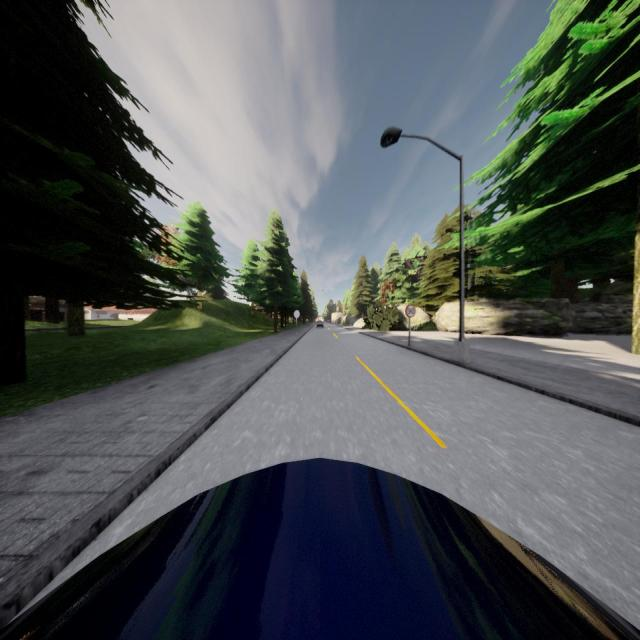Traffic_Signs: (405, 304, 416, 318), (293, 310, 300, 318)
Vehicle: (0, 458, 640, 640), (316, 320, 324, 328)
